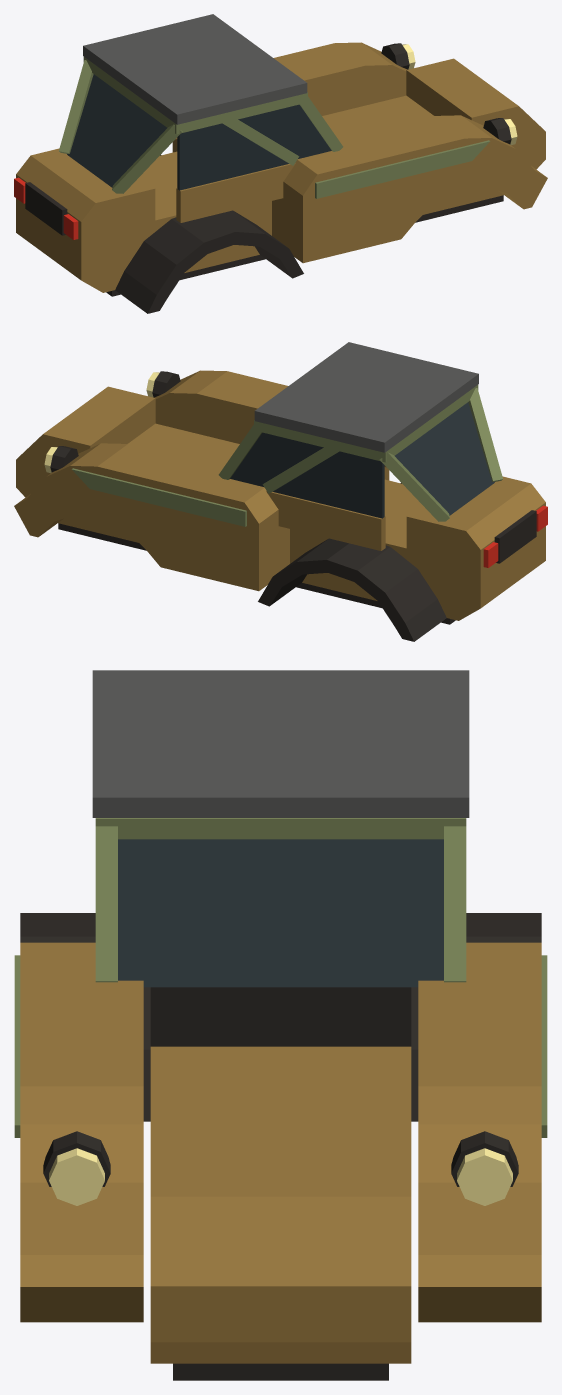
The model's file is base_buggy.glb.
3 views of the same model, one above another, from view 1: azimuth 30°, elevation 25°; view 2: azimuth 150°, elevation 25°; view 3: azimuth 270°, elevation 25° (orthographic). The views are drawn at different scales.
Visible parts, largest first — view 1: base_buggy; view 2: base_buggy; view 3: base_buggy.
Boxes of the visible parts, left/top/right/bottom form: base_buggy: left=14, top=14, right=547, bottom=313; base_buggy: left=14, top=342, right=547, bottom=641; base_buggy: left=14, top=670, right=547, bottom=1380.
Bounding box in the file's own units: 3.86 × 1.46 × 1.9.
